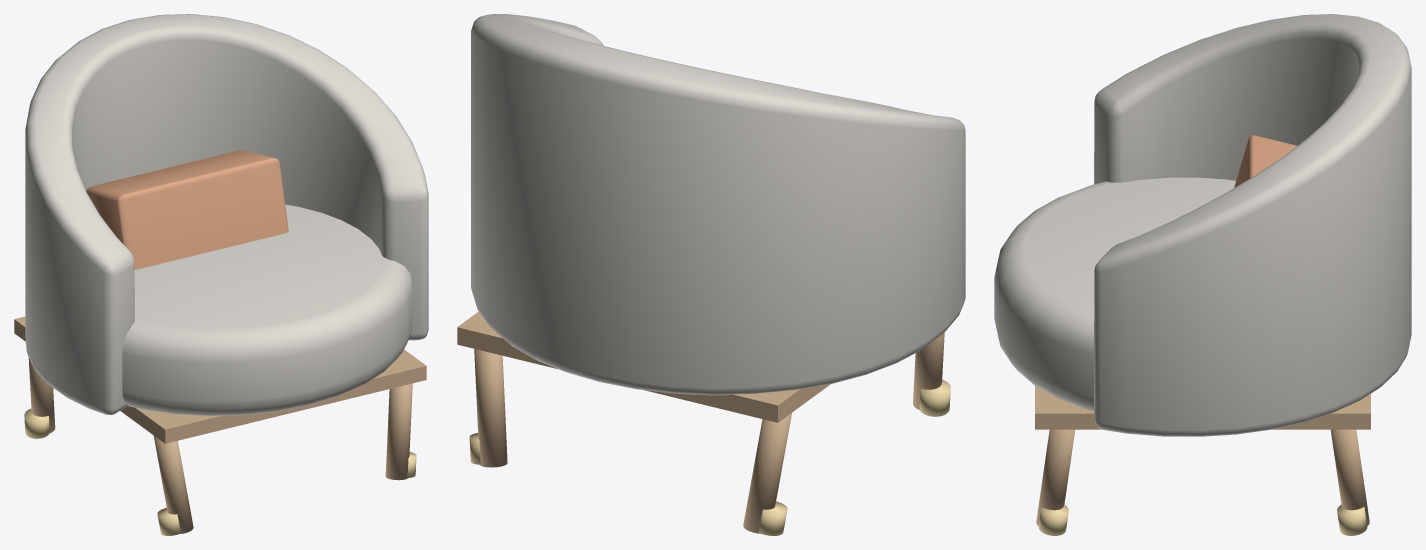
Rendered from chair_lounge.glb.
3 views of the same model, side by side, from view 1: azimuth 30°, elevation 25°; view 2: azimuth 150°, elevation 25°; view 3: azimuth 270°, elevation 25° (orthographic). The views are drawn at different scales.
Visible parts, largest first — view 1: BackrestShell, Cylinder.008, Cube.001, Cube, Cylinder.006, Cylinder.004, Cylinder, Cylinder.001, Cylinder.005; view 2: BackrestShell, Cube, Cylinder.002, Cylinder, Cylinder.004, Cylinder.005, Cylinder.001; view 3: BackrestShell, Cylinder.008, Cube, Cylinder.002, Cylinder.006, Cube.001, Cylinder.003, Cylinder.007.
Boxes of the visible parts, <box> form: BackrestShell: <box>25,14,428,414</box>; Cylinder.008: <box>122,204,412,415</box>; Cube.001: <box>86,150,288,269</box>; Cube: <box>14,316,426,443</box>; Cylinder.006: <box>385,383,412,480</box>; Cylinder.004: <box>154,436,193,533</box>; Cylinder: <box>28,358,55,432</box>; Cylinder.001: <box>24,408,49,438</box>; Cylinder.005: <box>157,508,180,535</box>; BackrestShell: <box>471,14,965,395</box>; Cube: <box>457,312,830,422</box>; Cylinder.002: <box>474,349,507,467</box>; Cylinder: <box>743,413,791,533</box>; Cylinder.004: <box>913,332,944,409</box>; Cylinder.005: <box>919,379,950,416</box>; Cylinder.001: <box>759,501,787,535</box>; BackrestShell: <box>1094,14,1411,436</box>; Cylinder.008: <box>994,177,1235,411</box>; Cube: <box>1035,386,1370,429</box>; Cylinder.002: <box>1330,429,1369,525</box>; Cylinder.006: <box>1036,429,1075,525</box>; Cube.001: <box>1234,135,1297,187</box>; Cylinder.003: <box>1337,504,1367,535</box>; Cylinder.007: <box>1038,504,1068,535</box>.
Size of the model in its own units: 0.7783 by 0.7838 by 0.72.
